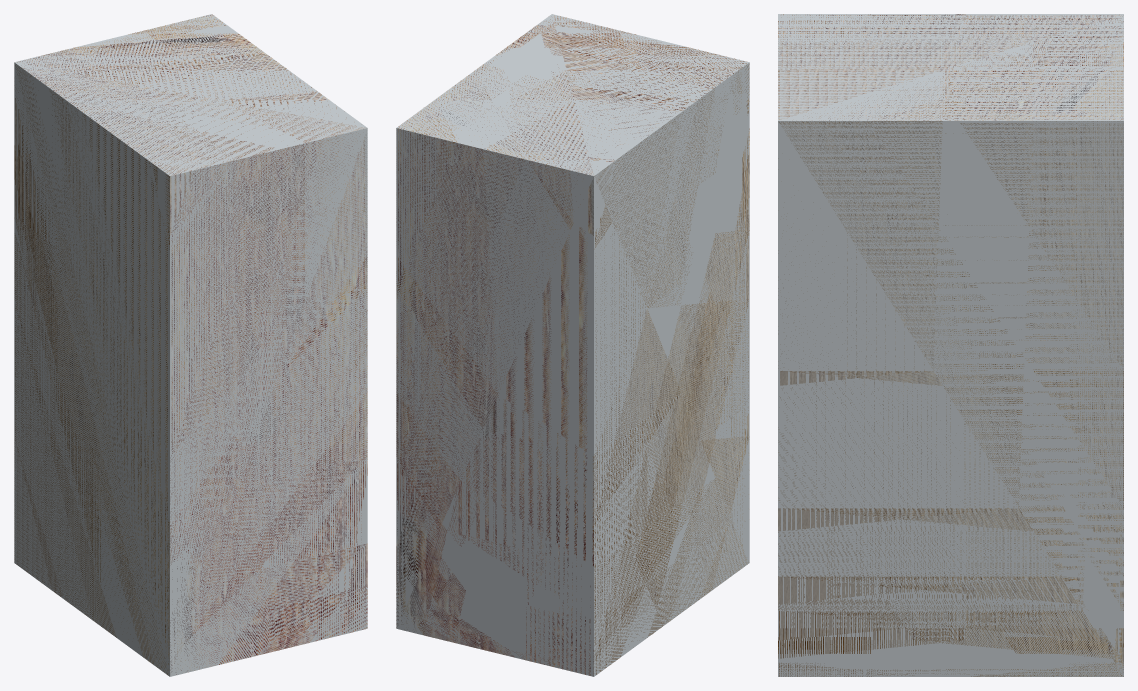
File: kapur.glb
3 views of the same model, side by side, from view 1: azimuth 30°, elevation 25°; view 2: azimuth 150°, elevation 25°; view 3: azimuth 270°, elevation 25° (orthographic). The views are drawn at different scales.
Parts seen in each view (by area): view 1: BackSide, FrontSide; view 2: BackSide, FrontSide; view 3: BackSide, FrontSide.
Part boxes in pixels (x1,y1,x2,y2): BackSide: (14,14,367,676); FrontSide: (14,14,367,674); BackSide: (396,14,749,676); FrontSide: (396,15,749,675); BackSide: (778,14,1123,676); FrontSide: (778,14,1123,676).
Bounding box in the file's own units: 1.11 × 2.69 × 1.52.
4 materials, 3 textured.
